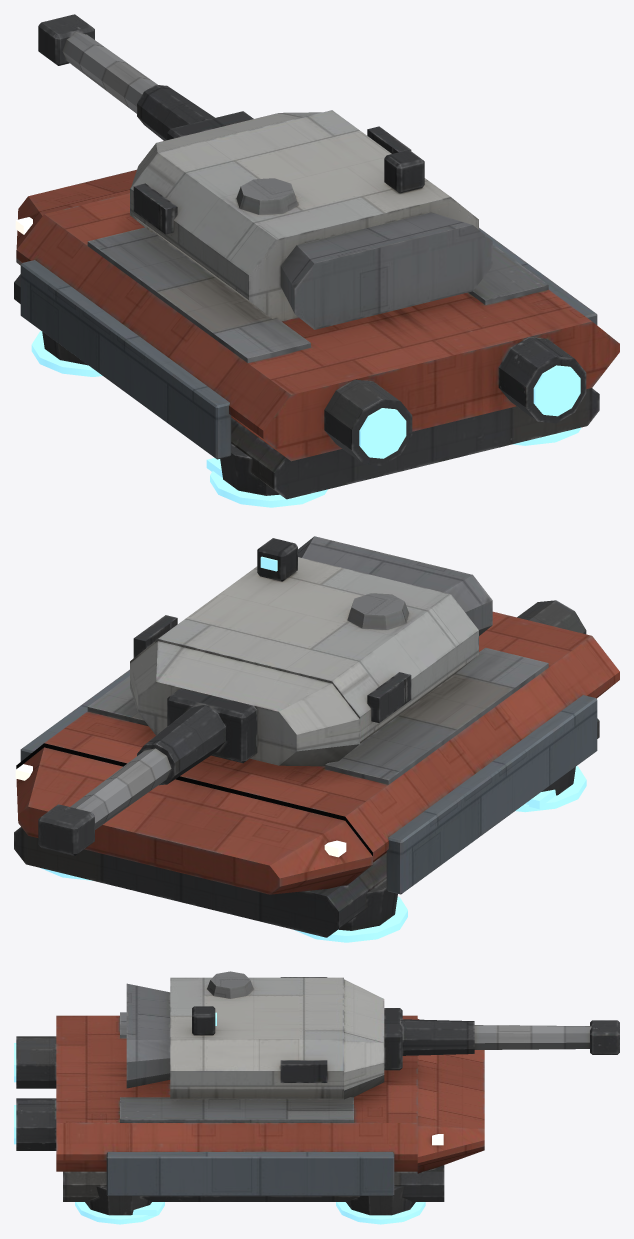
The model's file is hover_tank.glb.
3 views of the same model, one above another, from view 1: azimuth 30°, elevation 25°; view 2: azimuth 150°, elevation 25°; view 3: azimuth 270°, elevation 25° (orthographic). The views are drawn at different scales.
Visible parts, largest first — view 1: hover_tank_hull, hover_tank_lights; view 2: hover_tank_hull, hover_tank_lights; view 3: hover_tank_hull, hover_tank_lights.
Boxes of the visible parts, x1,y1,x2,y2 form: hover_tank_hull: (14, 14, 619, 499); hover_tank_lights: (15, 217, 581, 507); hover_tank_hull: (14, 536, 619, 937); hover_tank_lights: (15, 556, 586, 942); hover_tank_hull: (16, 971, 619, 1215); hover_tank_lights: (14, 1012, 443, 1224).
Size of the model in its own units: 9.64 by 5.7 by 18.12.
3 materials, 1 textured.
